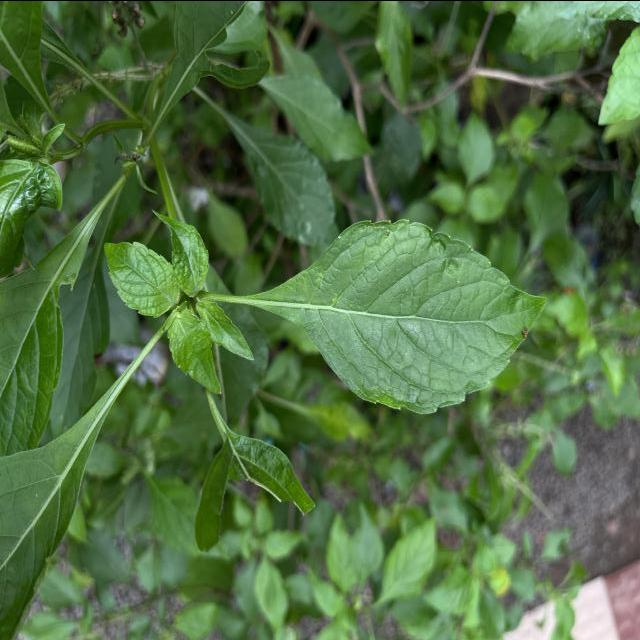Ocimum gratissimum: (245, 212, 550, 416)
